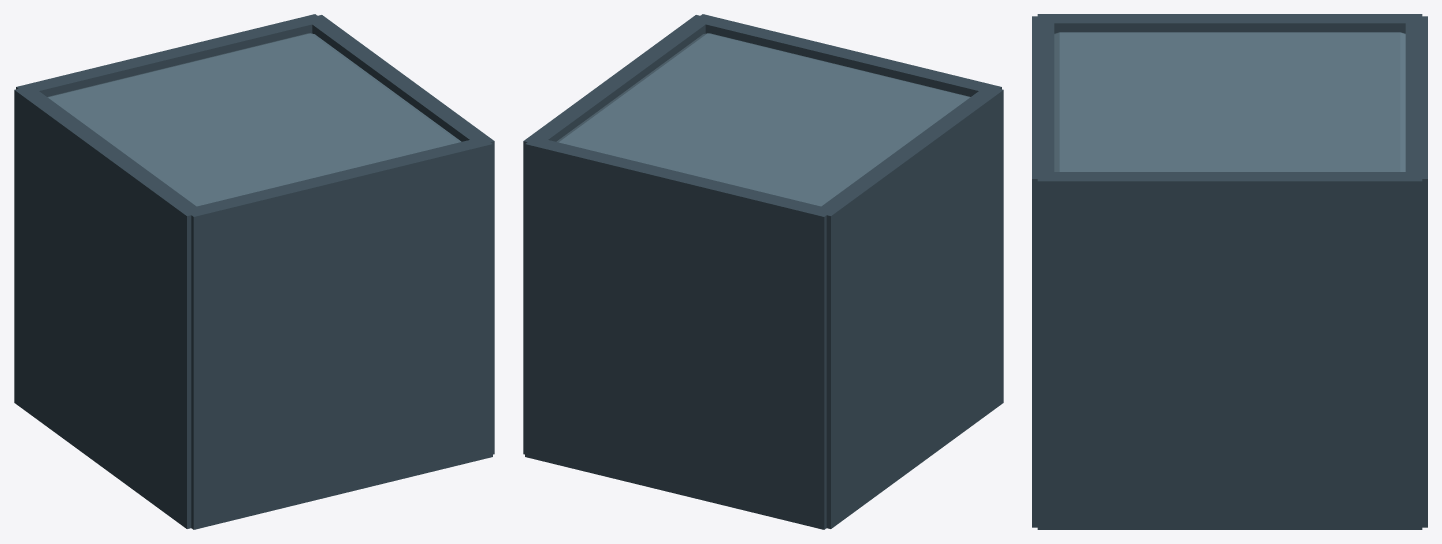
Rendered from dock_crate.glb.
3 views of the same model, side by side, from view 1: azimuth 30°, elevation 25°; view 2: azimuth 150°, elevation 25°; view 3: azimuth 270°, elevation 25° (orthographic). The views are drawn at different scales.
Visible parts, largest first — view 1: Rib.003, Rib.001, Crate, Rib.002, Rib; view 2: Rib.002, Rib.001, Crate, Rib.003, Rib; view 3: Rib, Crate, Rib.001, Rib.002, Rib.003.
Boxes of the visible parts, <box> form: Rib.003: <box>184,137,492,529</box>; Rib.001: <box>14,89,203,528</box>; Crate: <box>47,33,461,206</box>; Rib.002: <box>16,14,323,96</box>; Rib: <box>305,15,494,454</box>; Rib.002: <box>525,137,833,529</box>; Rib.001: <box>814,89,1003,528</box>; Crate: <box>556,33,970,206</box>; Rib.003: <box>693,14,1001,96</box>; Rib: <box>523,15,712,454</box>; Rib: <box>1037,172,1422,529</box>; Crate: <box>1054,32,1405,171</box>; Rib.001: <box>1037,14,1422,33</box>; Rib.002: <box>1405,16,1427,527</box>; Rib.003: <box>1032,16,1054,527</box>.
Bounding box in the file's own units: 1.07 × 1.04 × 1.07.
